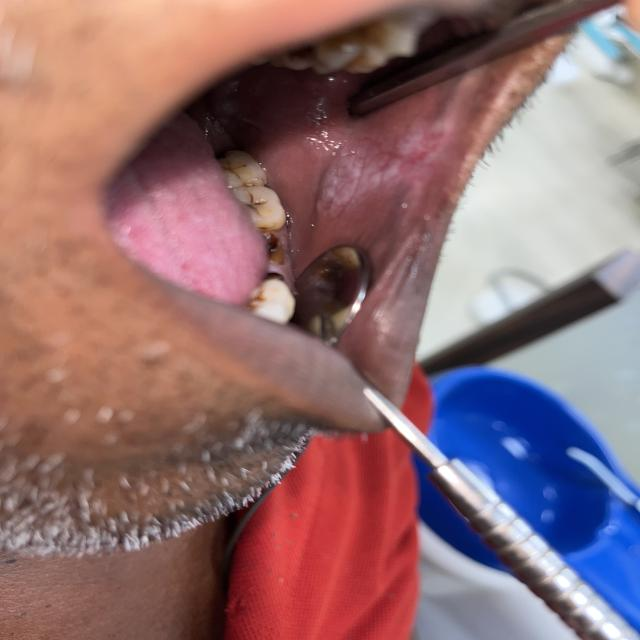leukoplakia-detection: (312, 115, 457, 217)
processing_area: (265, 47, 526, 345), (109, 160, 266, 303)
